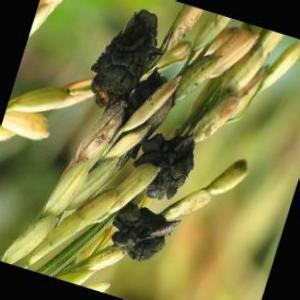Leaf_Scald: (95, 7, 165, 113), (111, 211, 165, 264), (145, 135, 185, 203)
